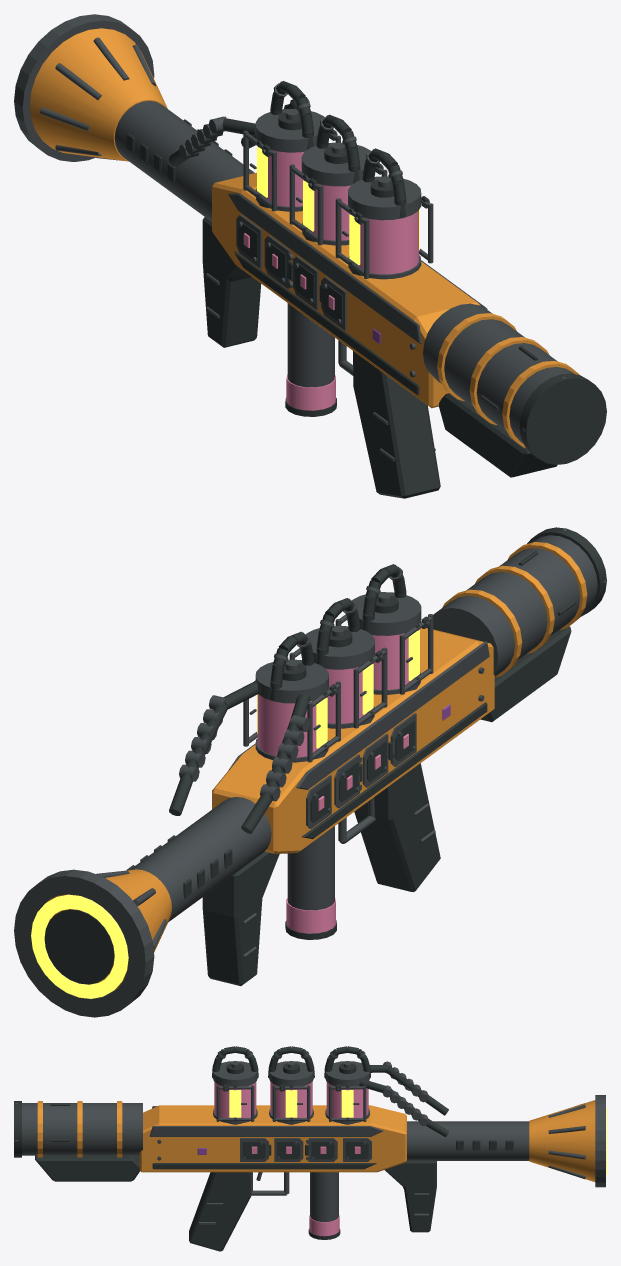
File: sticky_3.glb
3 views of the same model, one above another, from view 1: azimuth 30°, elevation 25°; view 2: azimuth 150°, elevation 25°; view 3: azimuth 270°, elevation 25° (orthographic). The views are drawn at different scales.
Visible parts, largest first — view 1: Weapon_sticky_v1; view 2: Weapon_sticky_v1; view 3: Weapon_sticky_v1.
Part boxes in pixels (bbox=[...]): Weapon_sticky_v1: bbox=[14, 14, 606, 498]; Weapon_sticky_v1: bbox=[14, 527, 606, 1017]; Weapon_sticky_v1: bbox=[14, 1046, 606, 1251].
Bounding box in the file's own units: 0.14 × 0.3345 × 0.8975.
